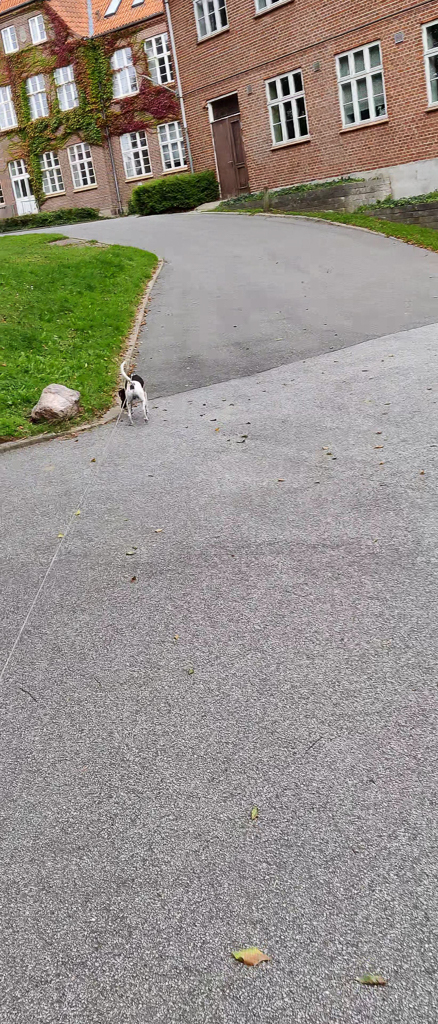Dog: (112, 358, 154, 430)
